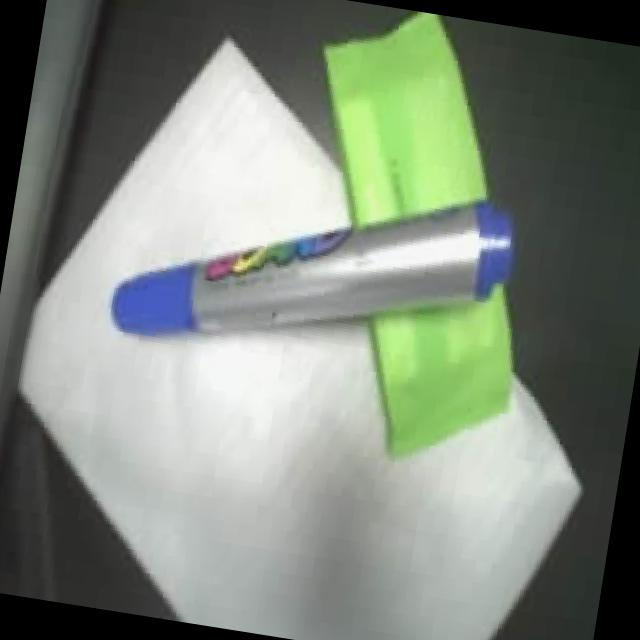board-marker: (101, 198, 519, 367)
